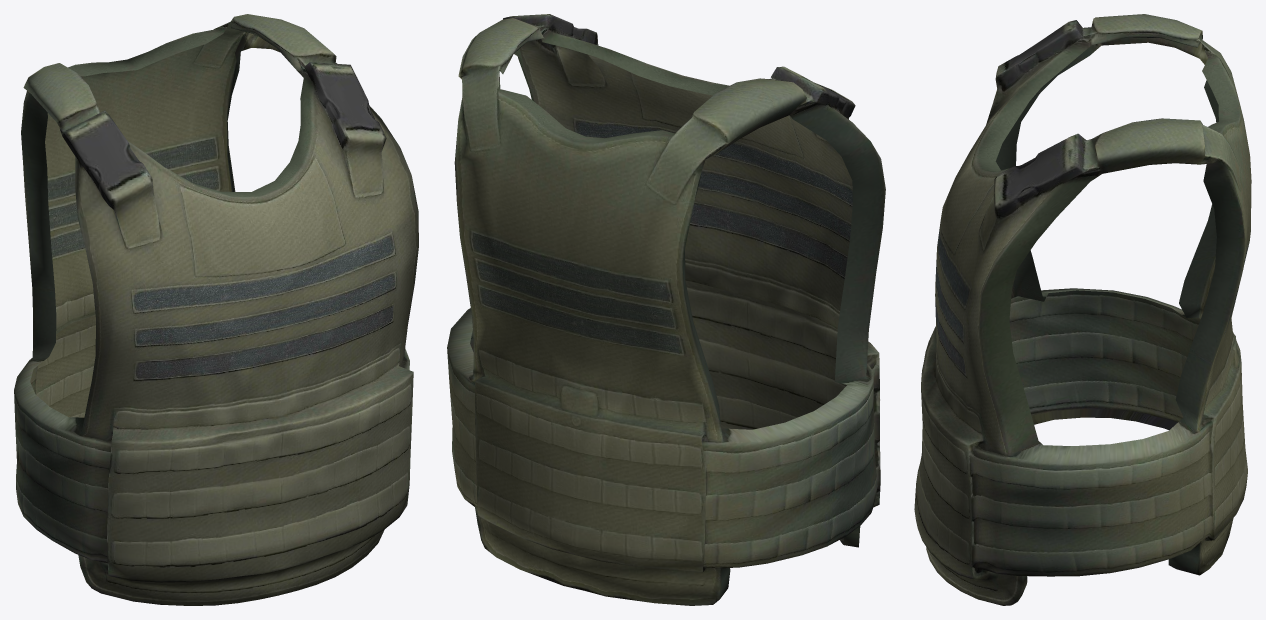
Rendered from vest2.glb.
3 views of the same model, side by side, from view 1: azimuth 30°, elevation 25°; view 2: azimuth 150°, elevation 25°; view 3: azimuth 270°, elevation 25° (orthographic). The views are drawn at different scales.
Visible parts, largest first — view 1: prop; view 2: prop; view 3: prop.
Part boxes in pixels (x1=…): prop: x1=14, y1=14, x2=418, y2=605; prop: x1=447, y1=14, x2=885, y2=605; prop: x1=914, y1=14, x2=1251, y2=605.
Size of the model in its own units: 0.428 by 0.5349 by 0.3481.
1 material, 1 textured.
